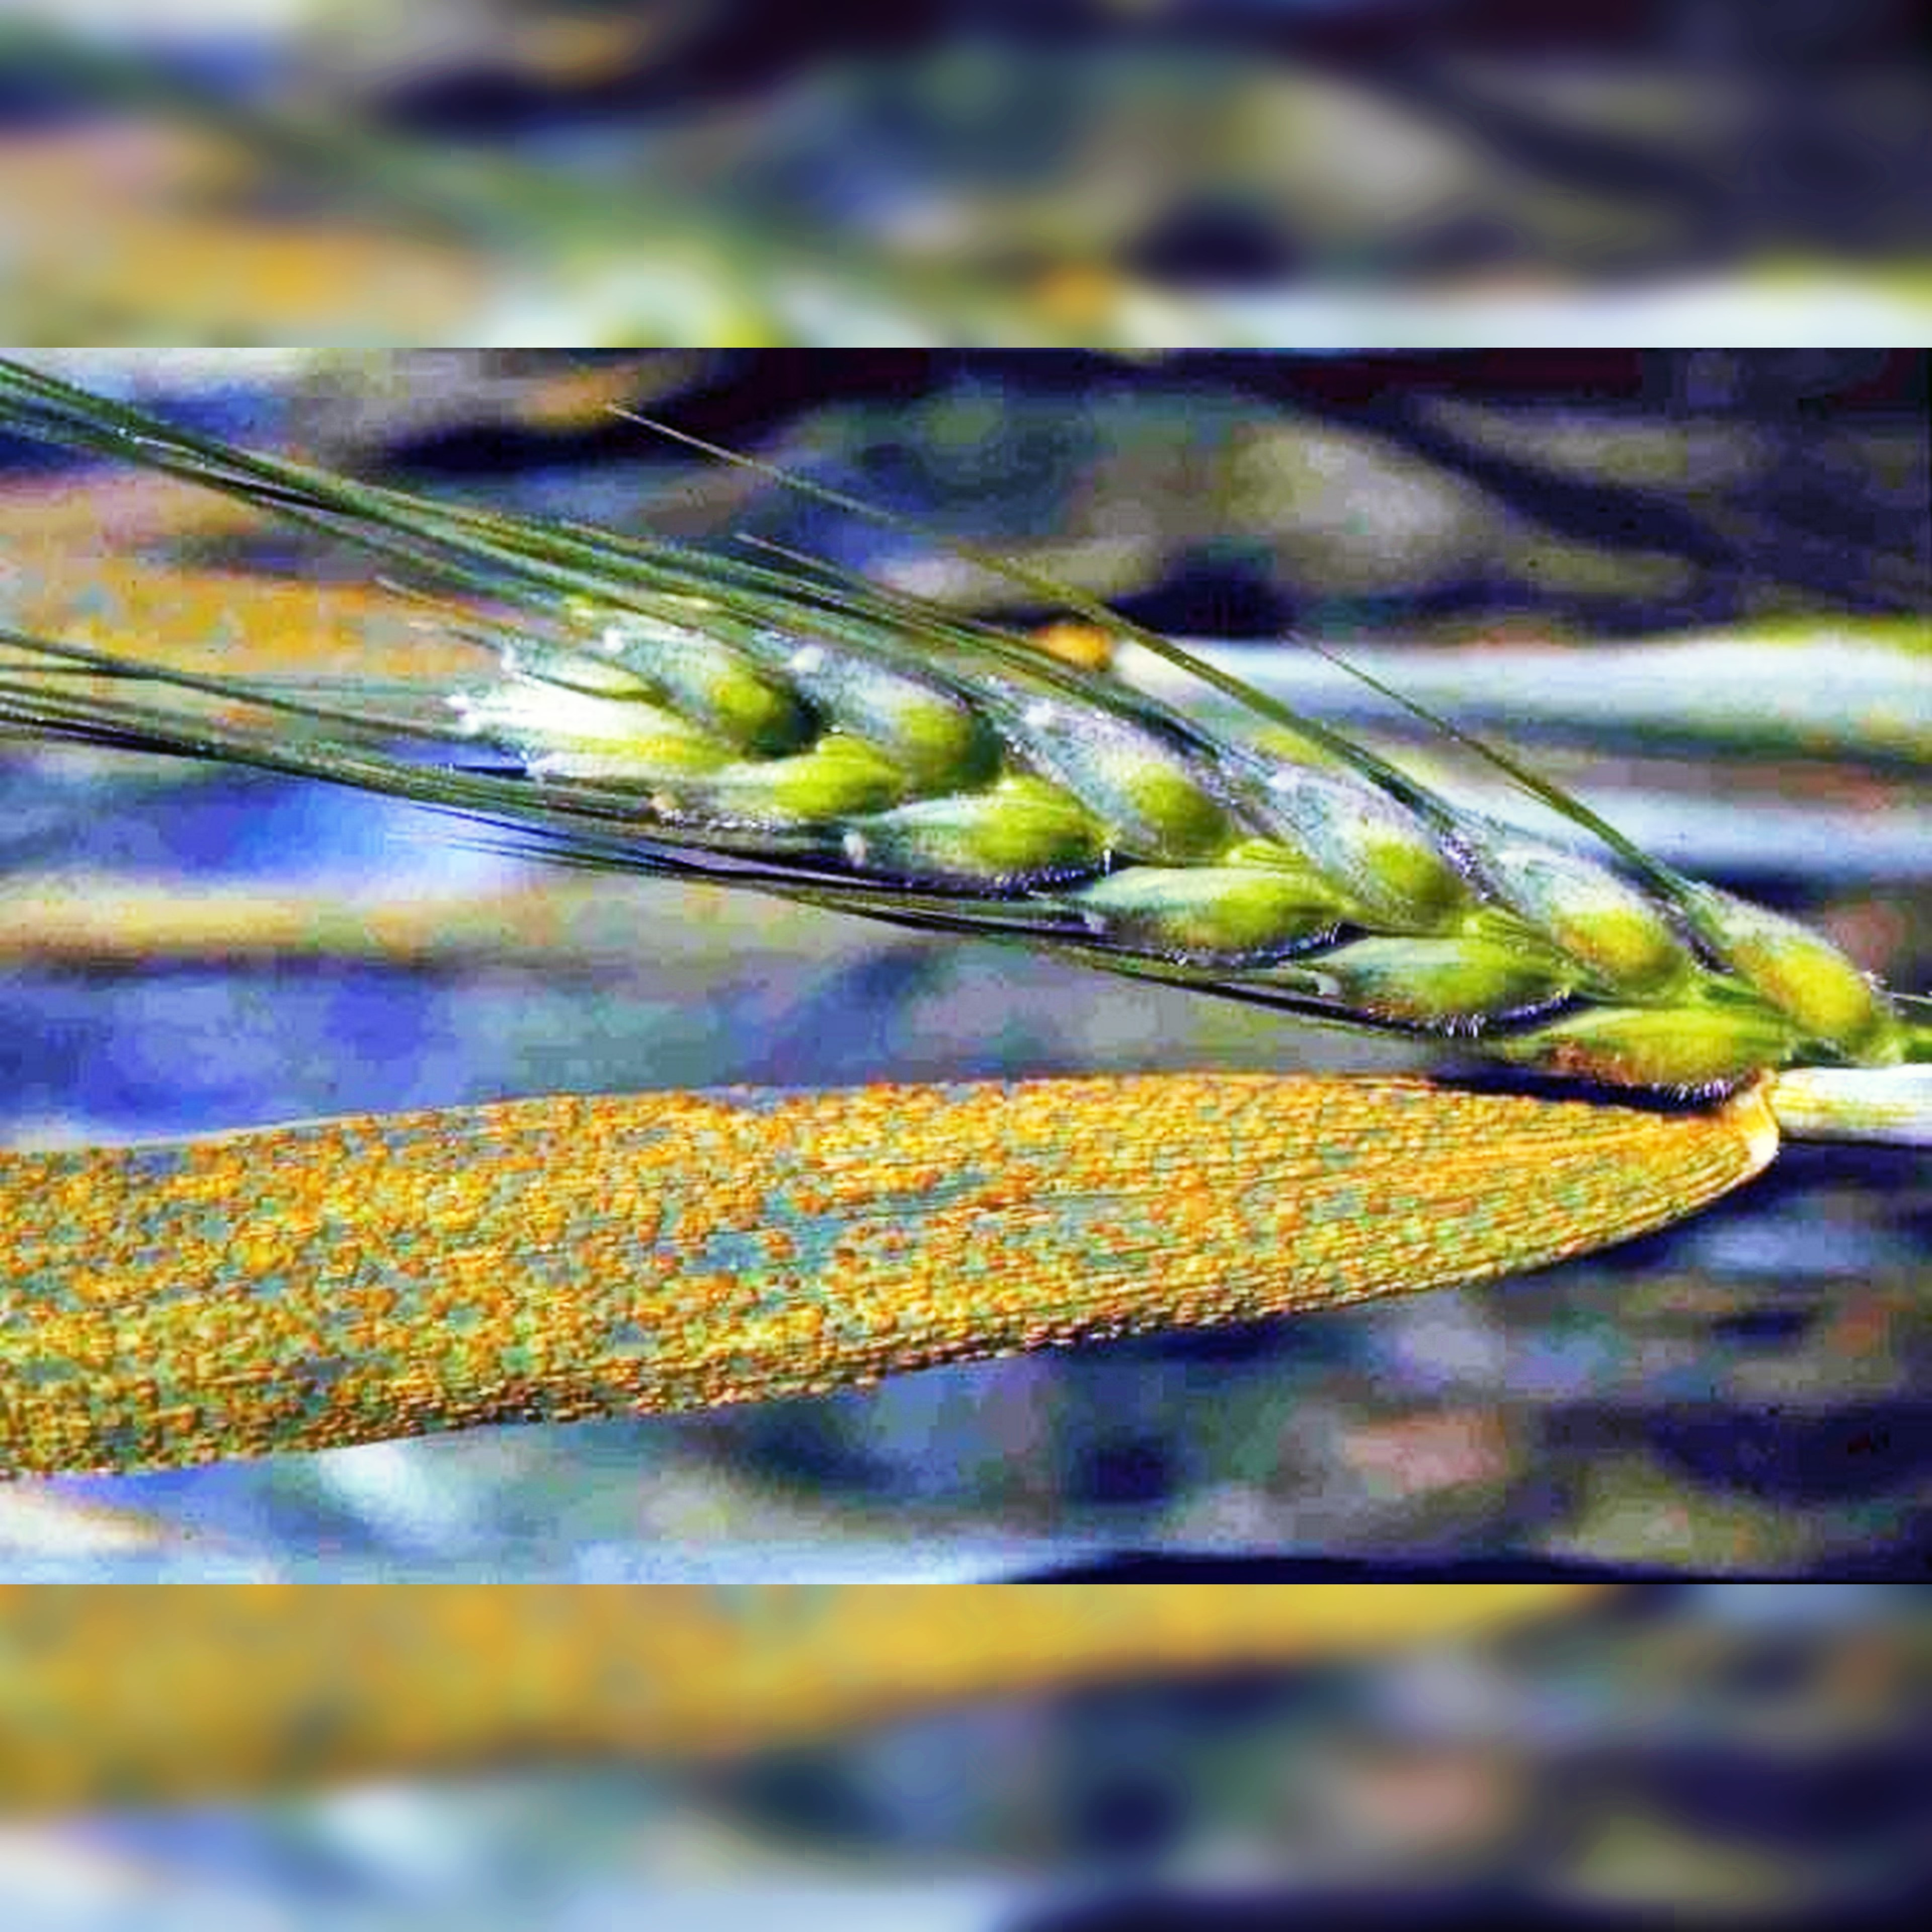Leaf Rust: (19, 1026, 1736, 1499)
